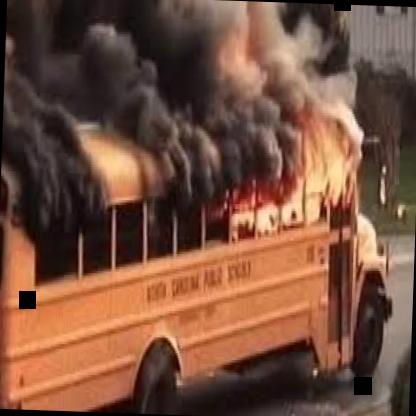fire: (0, 0, 372, 267)
